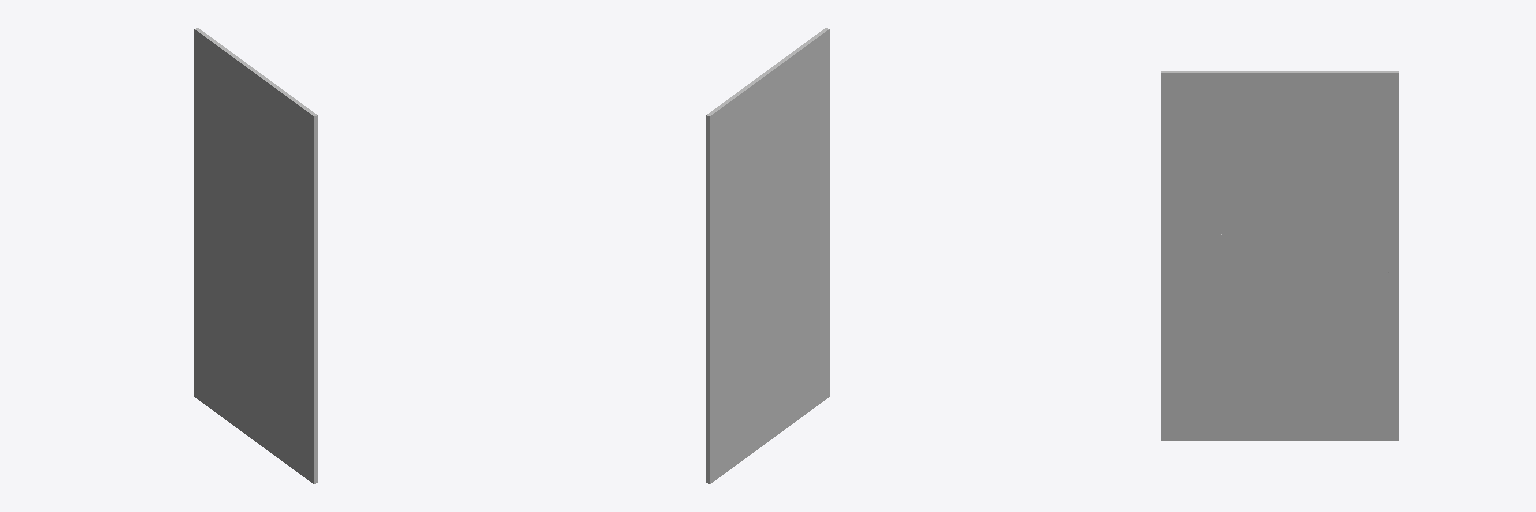
3 renders of one model, left to right at view 1: azimuth 30°, elevation 25°; view 2: azimuth 150°, elevation 25°; view 3: azimuth 270°, elevation 25°, orthographic.
Parts seen in each view (by area): view 1: back11_zoetrope.567; view 2: back11_zoetrope.567; view 3: back11_zoetrope.567.
Boxes of the visible parts, x1=… form: back11_zoetrope.567: x1=194, y1=28, x2=317, y2=483; back11_zoetrope.567: x1=706, y1=28, x2=829, y2=483; back11_zoetrope.567: x1=1161, y1=71, x2=1398, y2=440.
Bounding box in the file's own units: 0.0109 × 0.9246 × 0.5439.